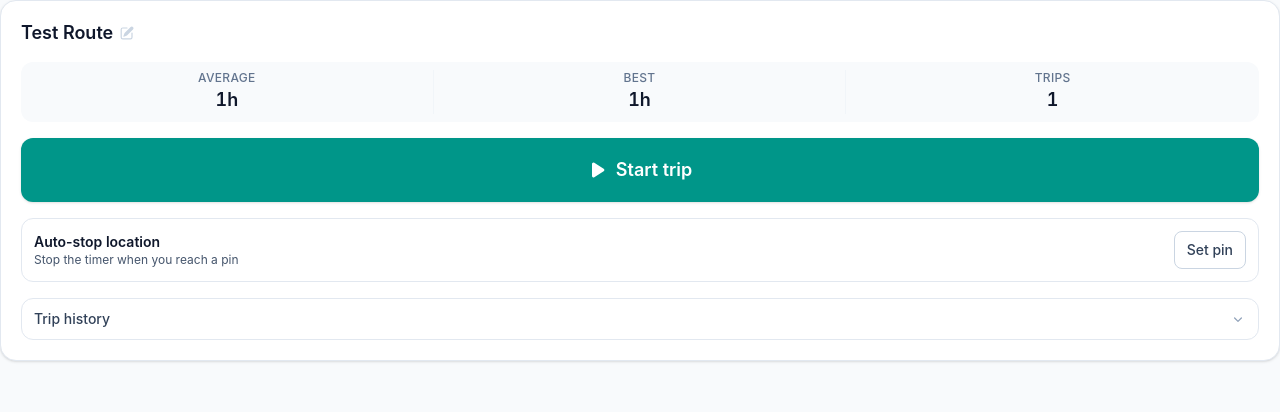
Test: RouteCard editing functionality › edit mode state transitions and UI updates › should exit edit mode and revert to original name when cancelled
Enter edit mode
Click the button with aria-label "edit route name: test route": (78, 33) top-left (17, 21), bottom-right (139, 46)
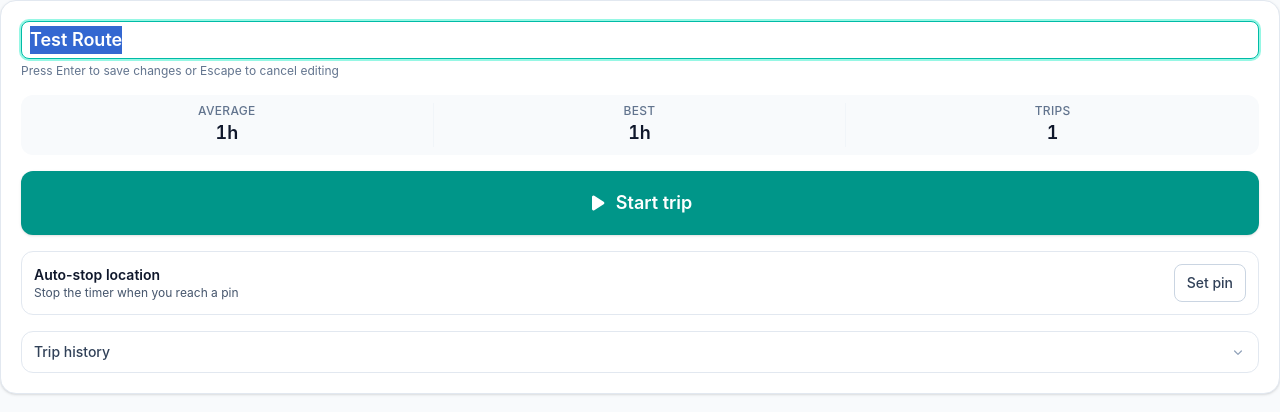
Modify the input
Replace the text in the field named "route name input field" with "Modified Name": (640, 40) top-left (21, 21), bottom-right (1259, 59)
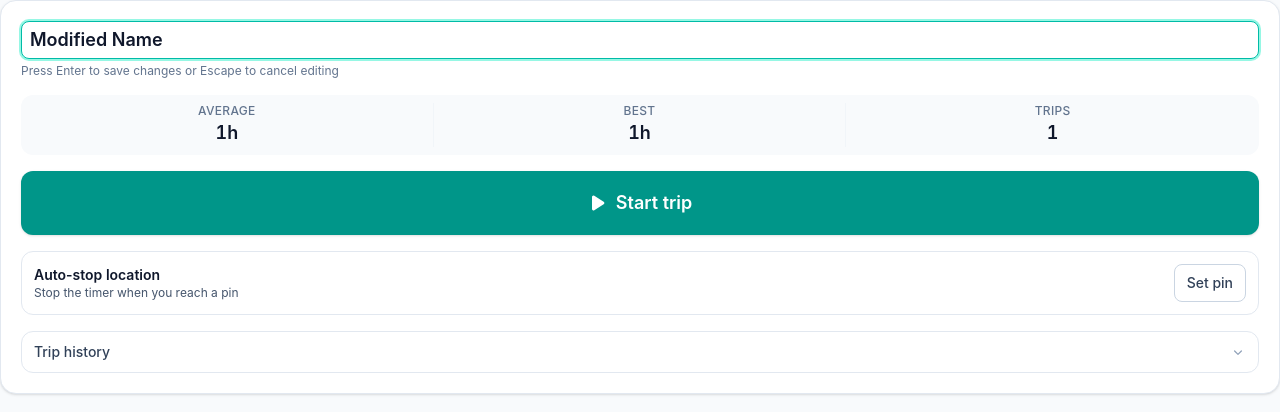
Cancel edit
Press Escape
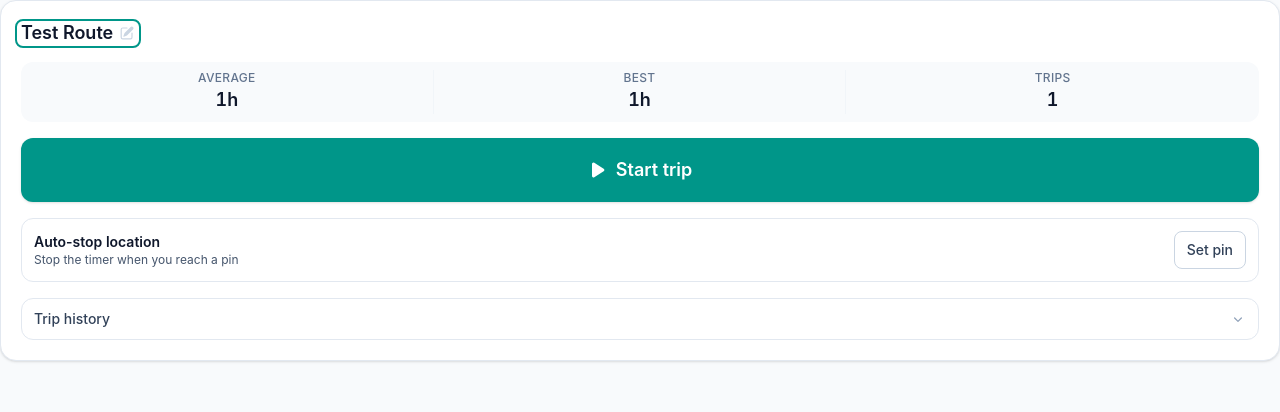
Now the button with aria-label "edit route name: test route" reads "Test Route", box top-left (17, 21), bottom-right (139, 46)
